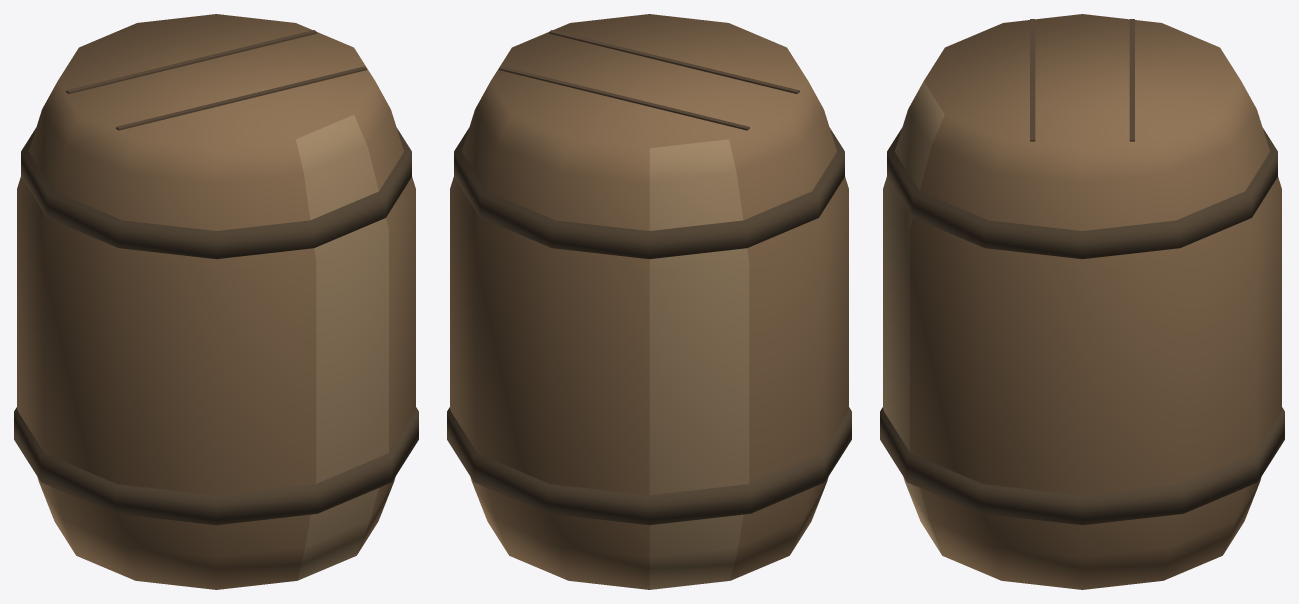
Rendered from wood_barrel_closed.glb.
The picture shows the model from 3 angles, left to right: view 1: azimuth 30°, elevation 25°; view 2: azimuth 150°, elevation 25°; view 3: azimuth 270°, elevation 25°; orthographic projection.
Visible parts, largest first — view 1: wood_barrel_closed; view 2: wood_barrel_closed; view 3: wood_barrel_closed.
Boxes of the visible parts, x1,y1,x2,y2 form: wood_barrel_closed: (14,14,418,589); wood_barrel_closed: (447,14,851,589); wood_barrel_closed: (880,14,1284,589).
Bounding box in the file's own units: 0.65 × 0.783 × 0.65.
